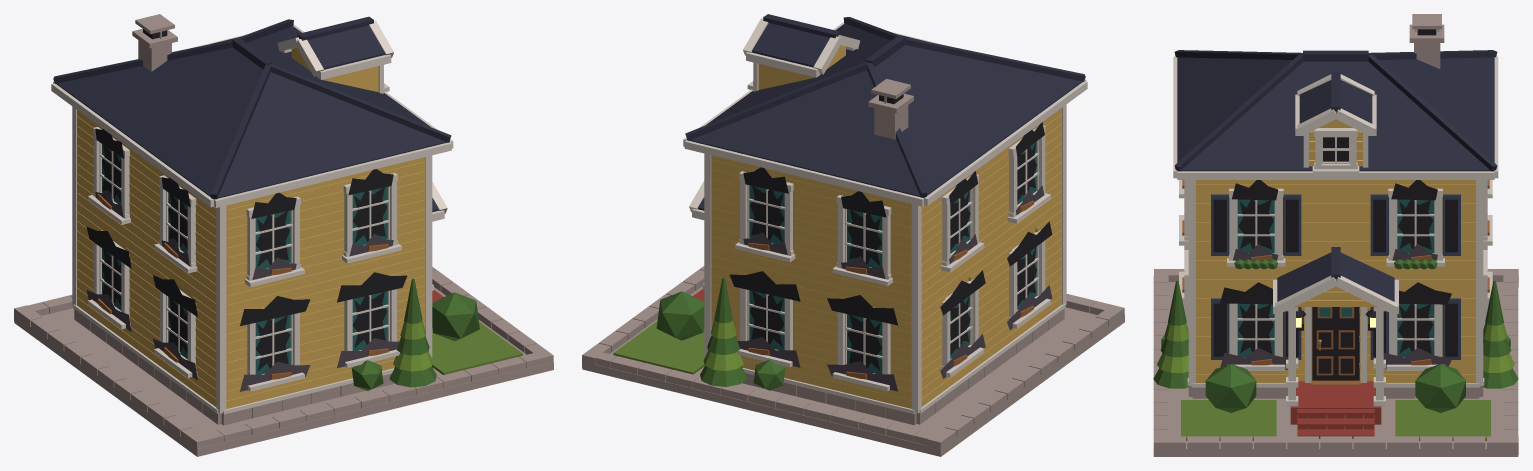
The model's file is bld.house-d.w3.lod1.glb.
3 renders of one model, left to right at view 1: azimuth 30°, elevation 25°; view 2: azimuth 150°, elevation 25°; view 3: azimuth 270°, elevation 25°, orthographic.
Parts seen in each view (by area): view 1: object 6, roof, body; view 2: object 6, roof, body; view 3: object 6, roof, body, door_front.
Boxes of the visible parts, x1,y1,x2,y2 form: object 6: (14, 127, 553, 456); roof: (51, 14, 453, 221); body: (72, 106, 443, 425); object 6: (582, 122, 1124, 456); roof: (683, 14, 1087, 220); body: (693, 104, 1066, 425); object 6: (1153, 180, 1518, 456); roof: (1173, 14, 1498, 313); body: (1187, 180, 1484, 438); door_front: (1312, 307, 1360, 380).
Size of the model in its own units: 9 by 7.5 by 8.02.
